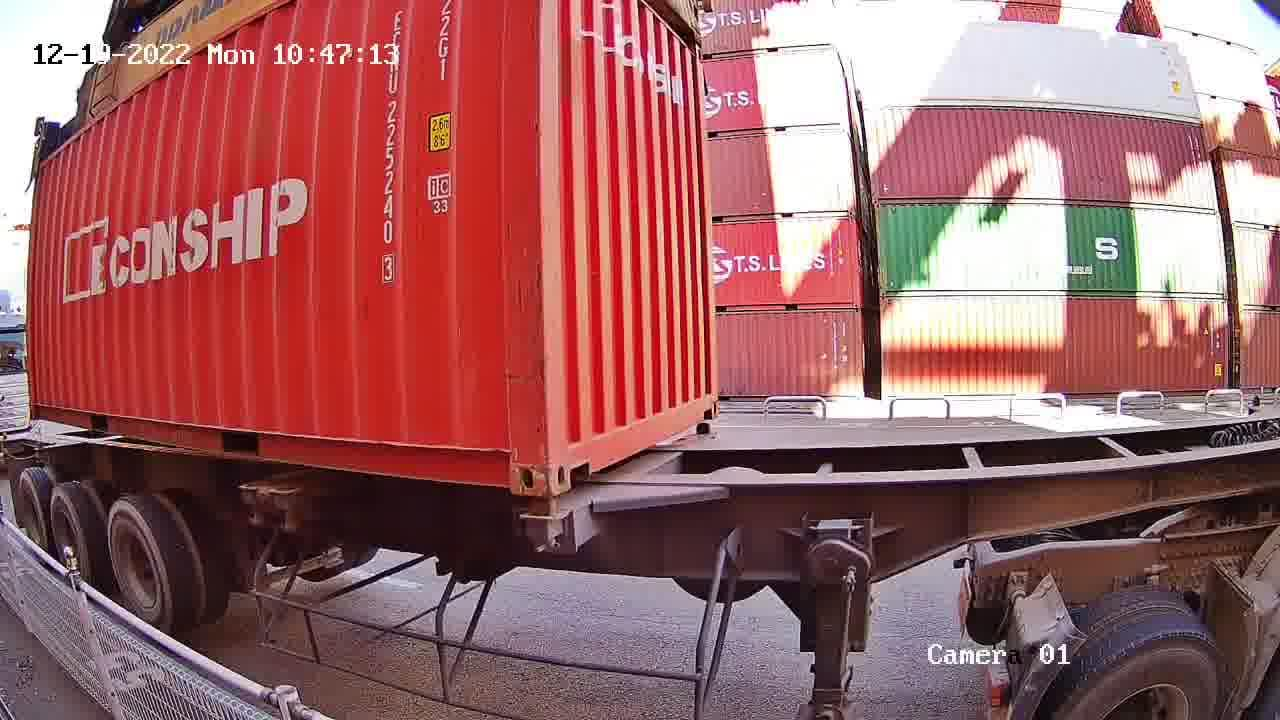Chassis: (526, 434, 712, 549)
Cone: (524, 496, 560, 551), (696, 423, 712, 438)
Hole_L: (547, 416, 605, 494)
Hole_R: (477, 431, 549, 493), (696, 382, 719, 421)
Tire: (110, 502, 170, 627), (52, 490, 88, 577), (18, 472, 46, 545)
